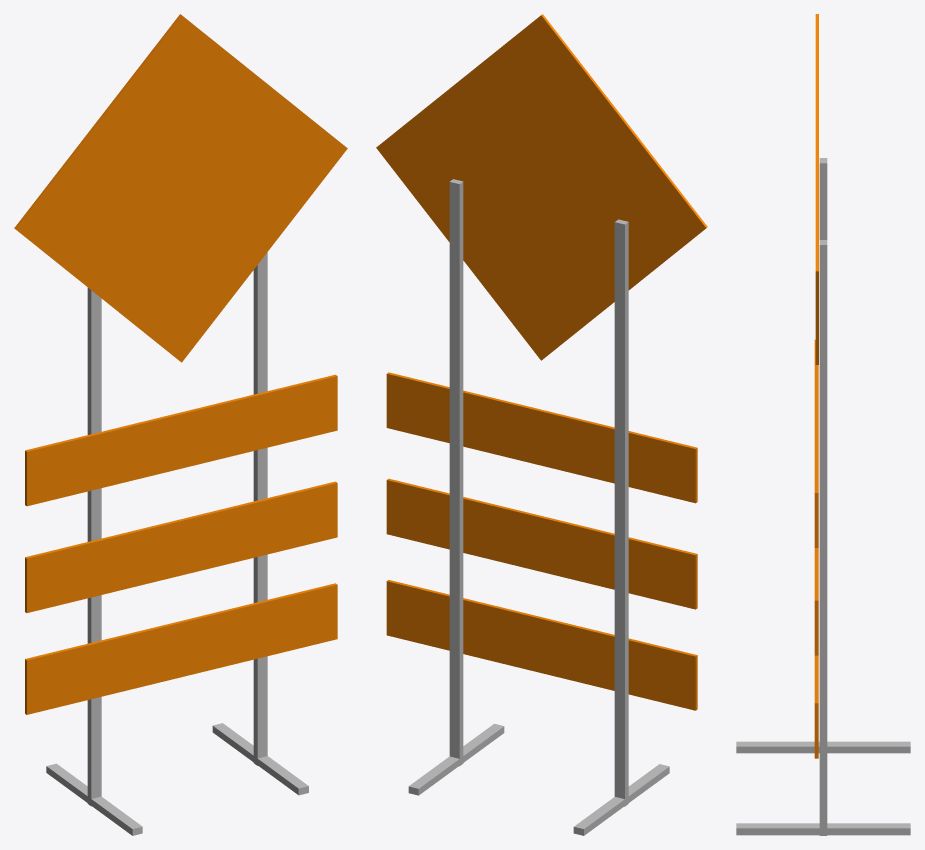
Rendered from Roadwork_Sign.fbx.
3 renders of one model, left to right at view 1: azimuth 30°, elevation 25°; view 2: azimuth 150°, elevation 25°; view 3: azimuth 270°, elevation 25°, orthographic.
Visible parts, largest first — view 1: Plane.012, Plane.014; view 2: Plane.012, Plane.014; view 3: Plane.012, Plane.014.
Part boxes in pixels (bbox=[...]): Plane.012: bbox=[25, 252, 337, 835]; Plane.014: bbox=[14, 14, 347, 362]; Plane.012: bbox=[386, 179, 697, 835]; Plane.014: bbox=[376, 14, 707, 360]; Plane.012: bbox=[736, 158, 910, 835]; Plane.014: bbox=[815, 14, 818, 364].
Bounding box in the file's own units: 108 × 239 × 48.48.
